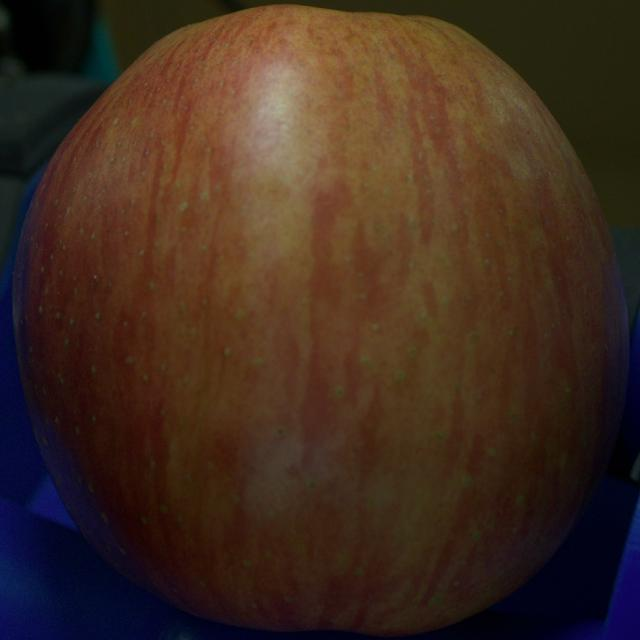apple: (13, 6, 629, 635)
